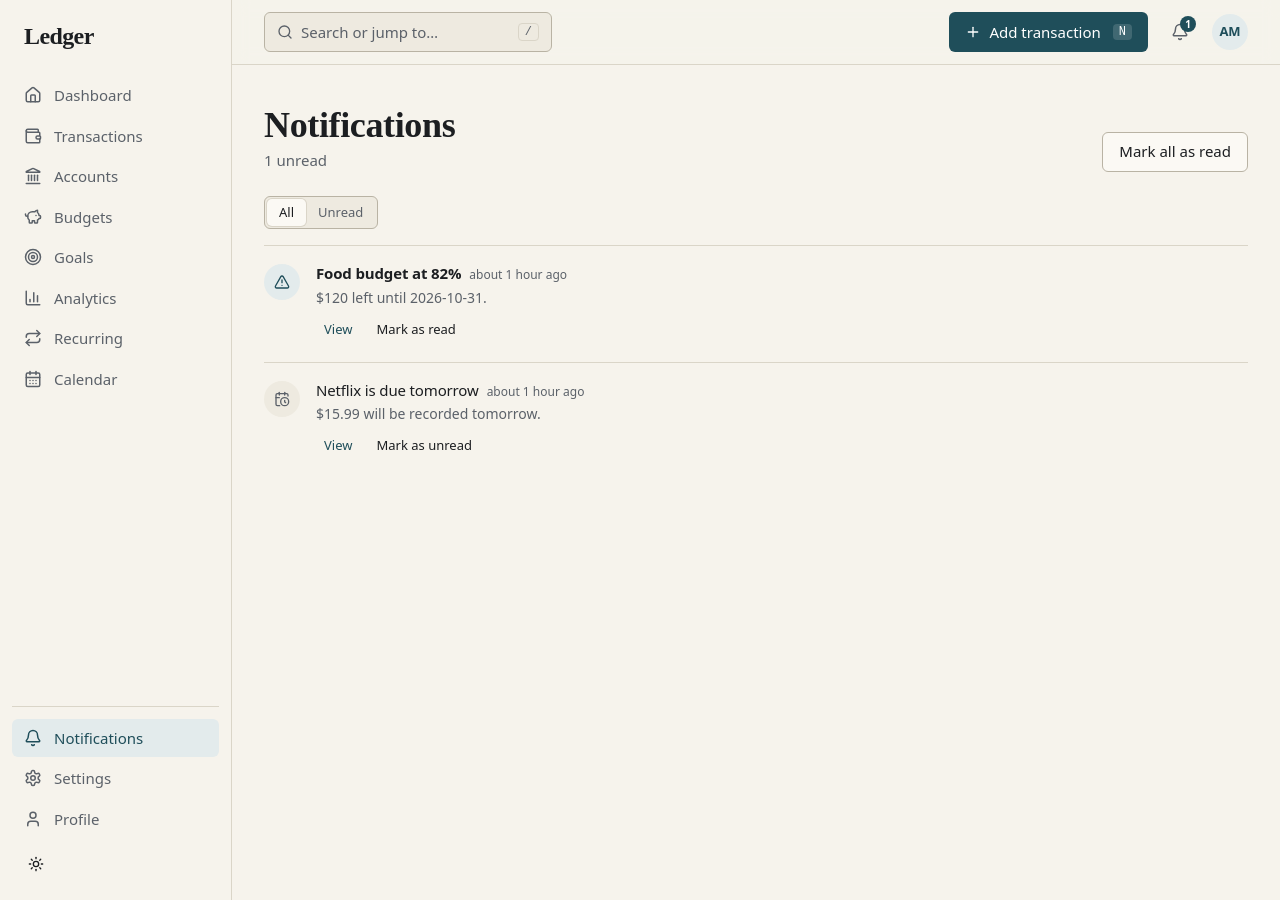
Test: notifications page › marks everything read
Click the button "Mark all as read". click: (1175, 152)
box: [1102, 132, 1248, 172]
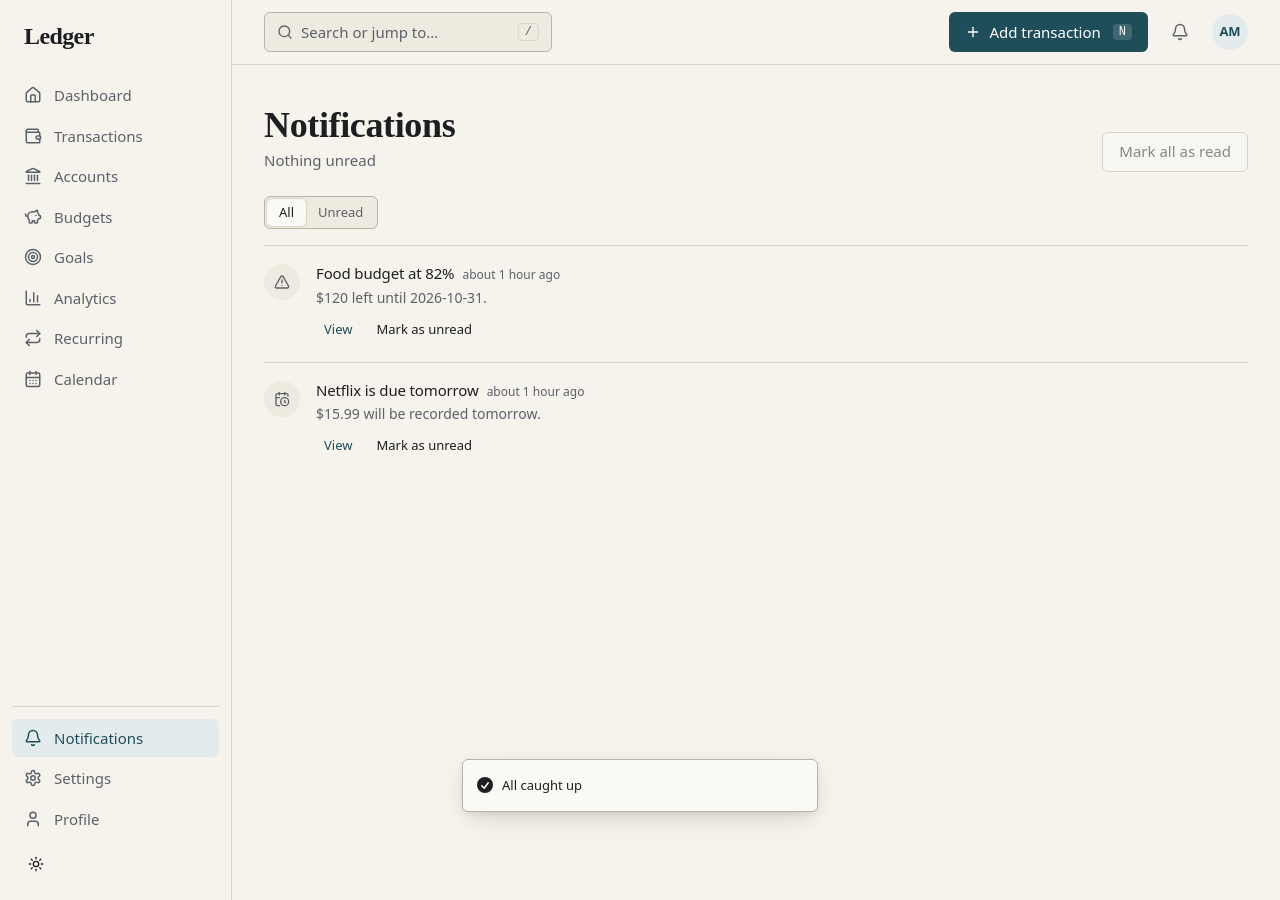
Result: the text "All caught up" is shown at [502, 776, 582, 795]
